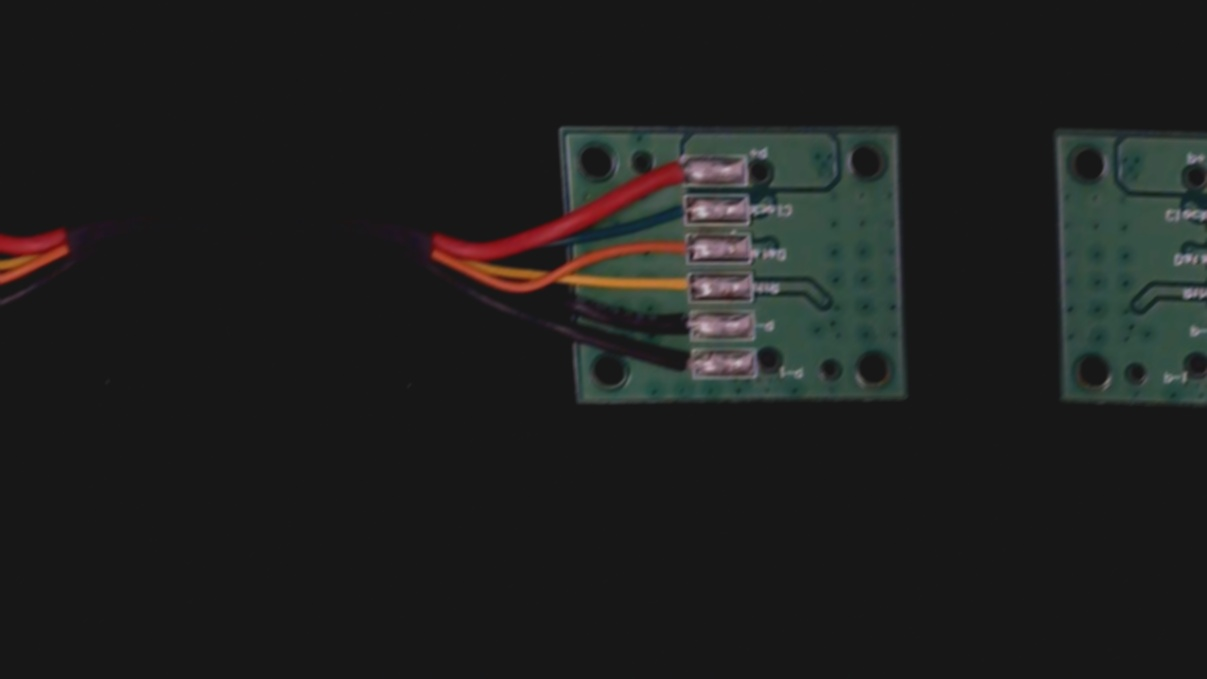Black: (640, 306, 705, 343)
Black1: (639, 349, 708, 382)
Green: (638, 196, 704, 228)
Orange: (630, 232, 704, 265)
Red: (627, 152, 700, 187)
Yellow: (640, 271, 706, 304)
